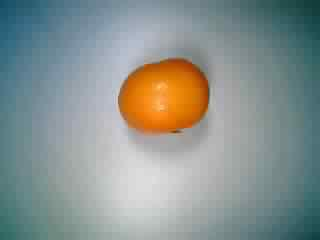orange: (117, 54, 212, 138)
